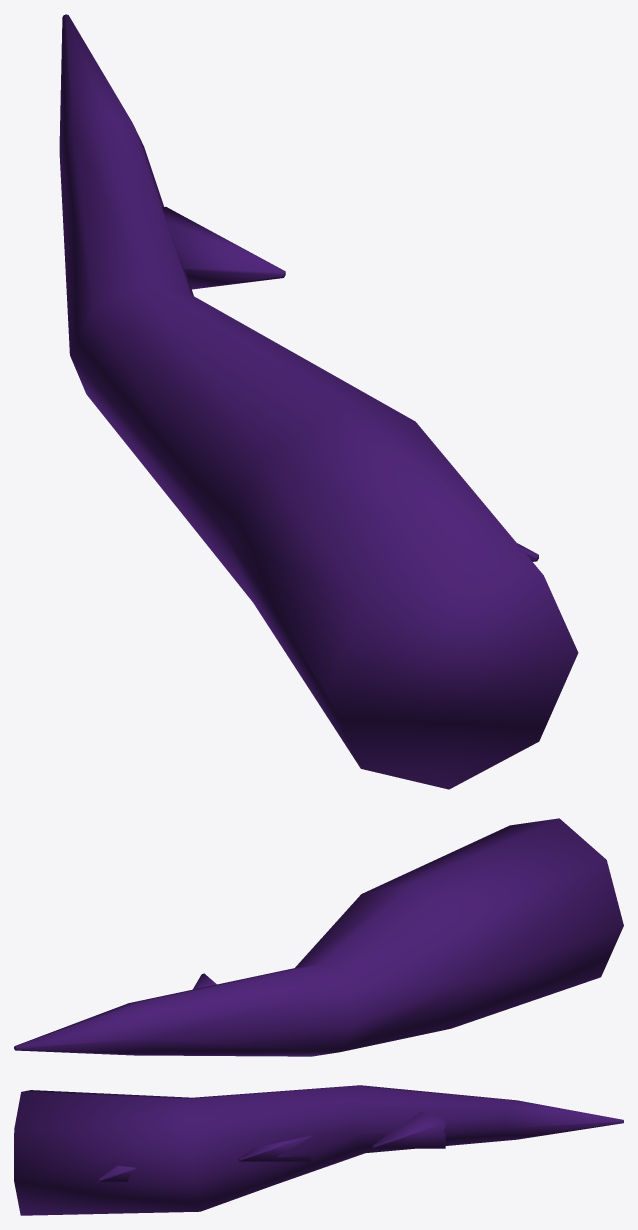
Rendered from item_item168.glb.
3 renders of one model, top to bottom at view 1: azimuth 30°, elevation 25°; view 2: azimuth 150°, elevation 25°; view 3: azimuth 270°, elevation 25°, orthographic. The views are drawn at different scales.
Parts seen in each view (by area): view 1: props_item168; view 2: props_item168; view 3: props_item168.
Part boxes in pixels (x1,y1,x2,y2): props_item168: (59, 14, 578, 789); props_item168: (14, 818, 623, 1056); props_item168: (14, 1085, 623, 1215).
Bounding box in the file's own units: 0.3111 × 0.2642 × 1.
